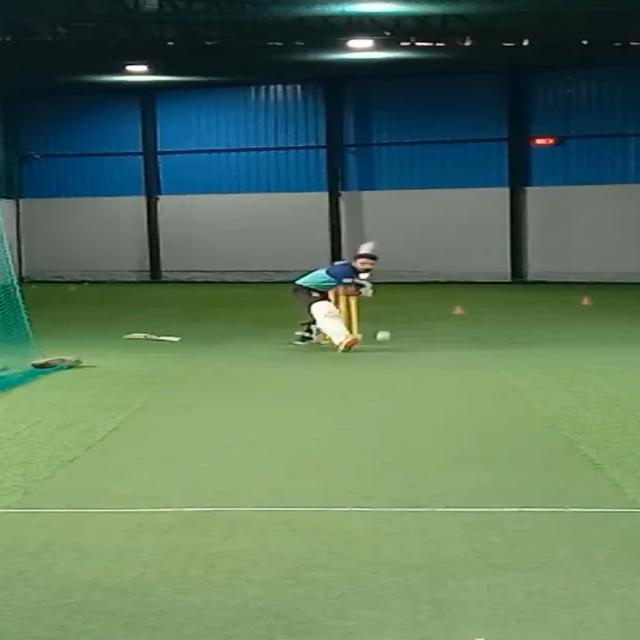ball: (372, 328, 395, 343)
stump: (322, 286, 362, 340)
